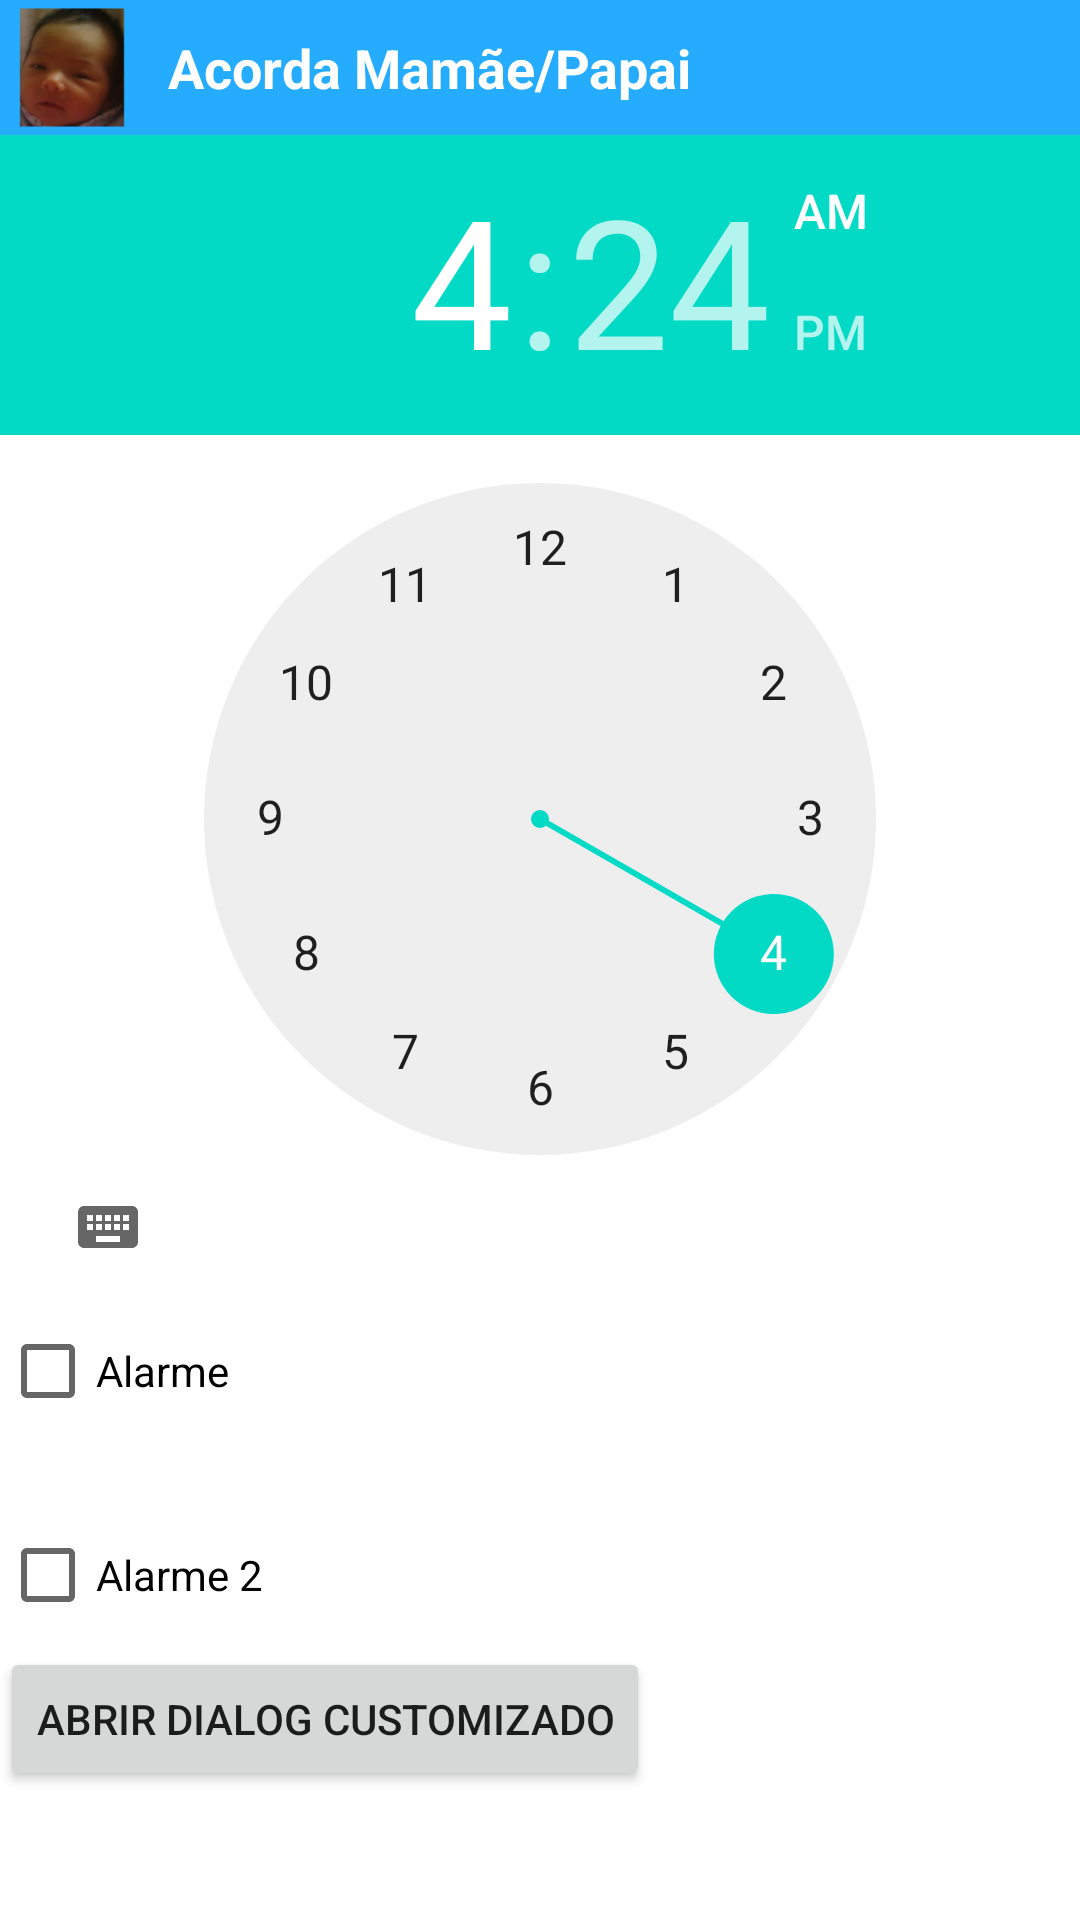

Locate icon controls on the screen. Image size 1080×1920, boxes as (x1, y1, x2, y2).
fofinha: (19, 8, 125, 127)
